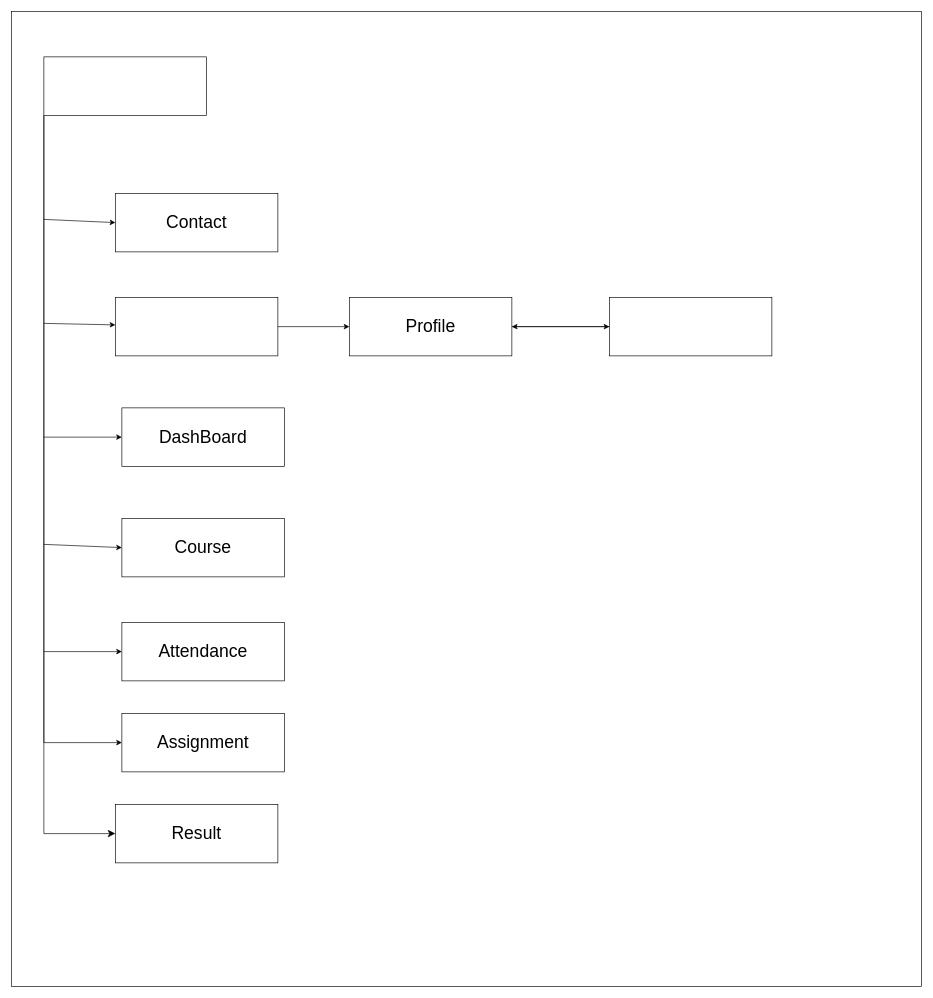
The diagram is 933 pixels wide and 998 high, and some of its shapes have lost their labels. Here are the shapes that lost their labels. From the top down, the box of each, then its label:
(43, 56, 206, 115): Home
(115, 297, 278, 356): Login
(609, 297, 772, 356): Register
